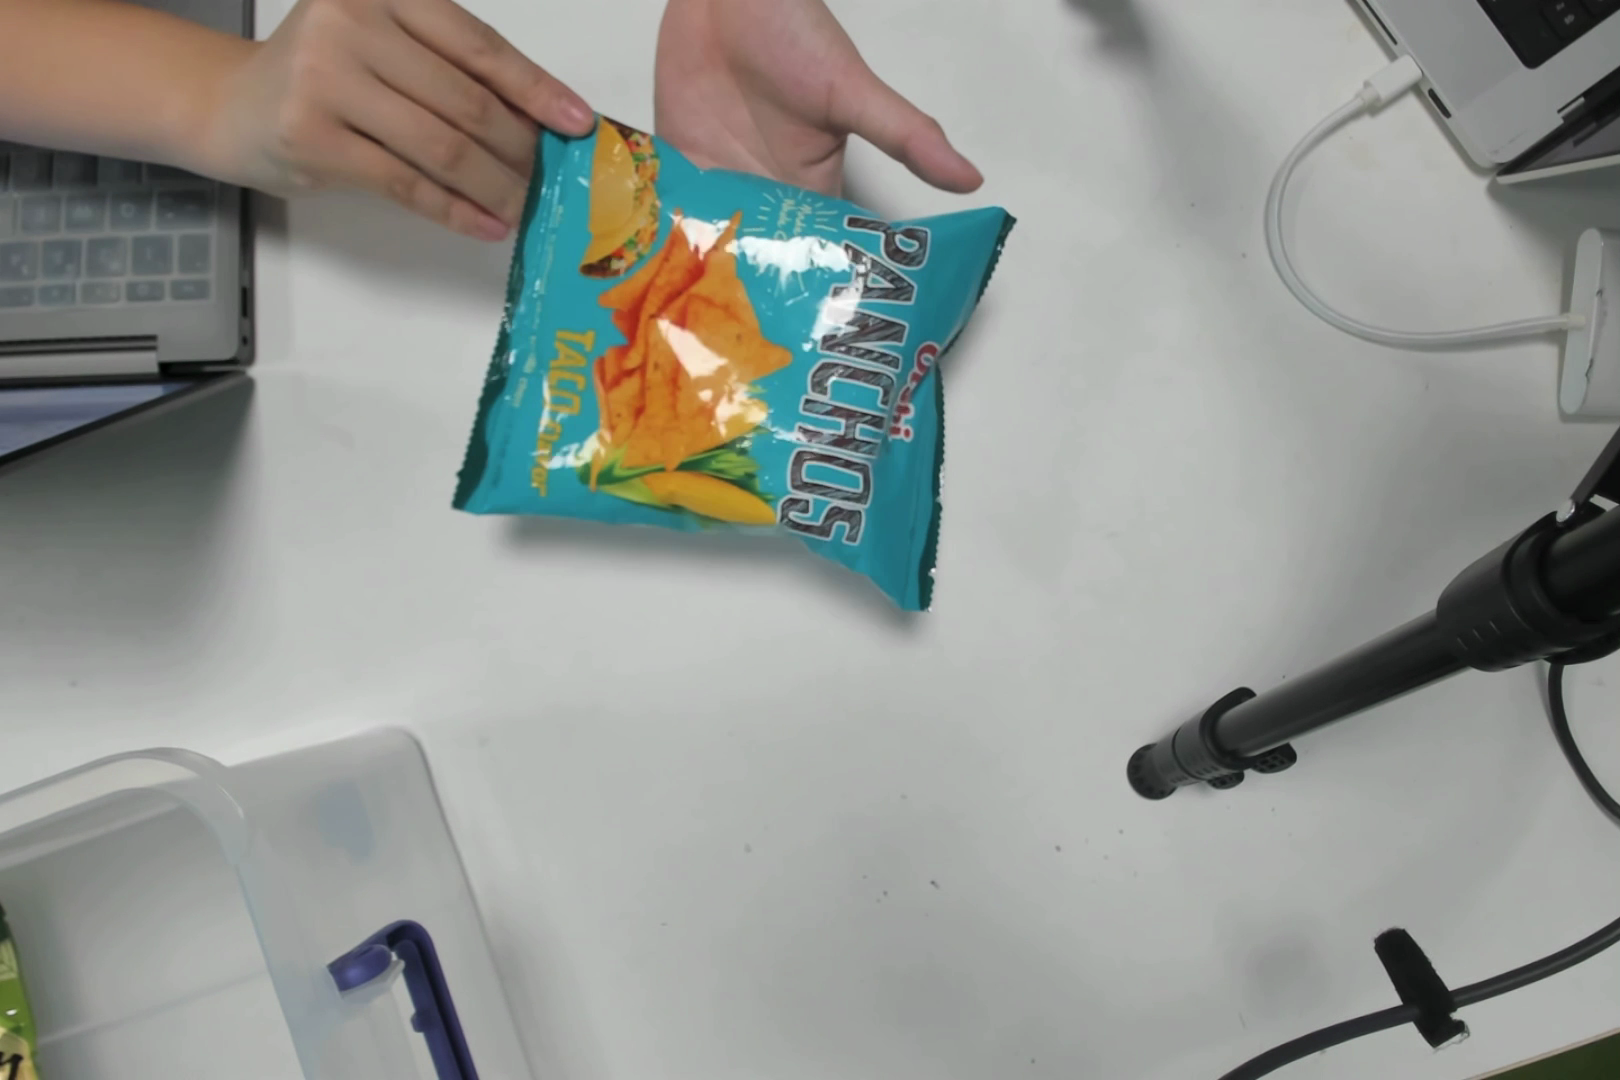PotatochipsKeropok_1-99g_NonHalal_NonHealthy: (513, 137, 978, 587)
